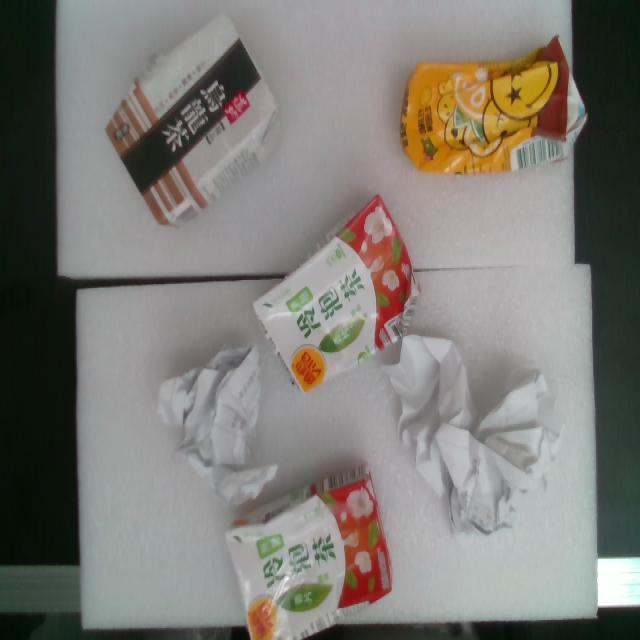juicebox: (64, 8, 313, 246), (216, 174, 462, 409), (395, 12, 599, 178)
paper: (375, 326, 598, 580), (132, 326, 314, 515)
